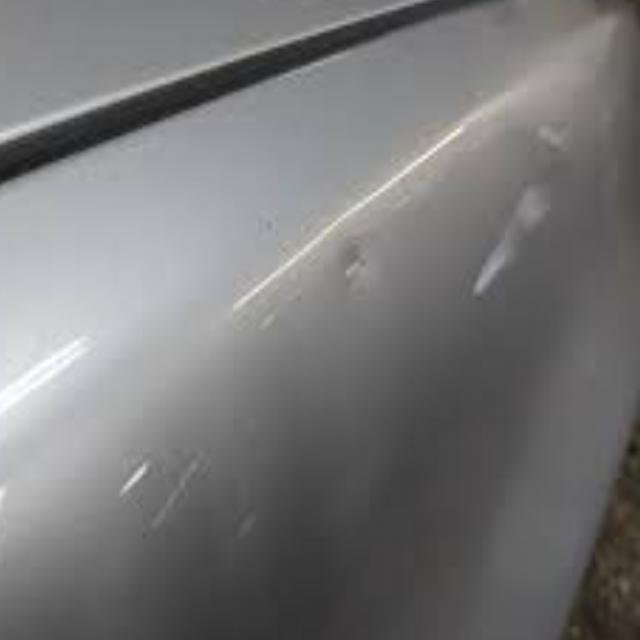dents: (311, 227, 410, 332)
